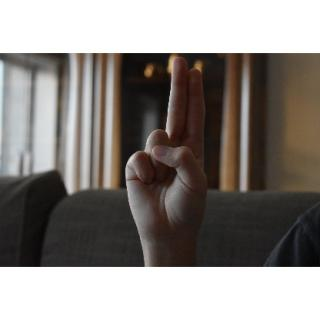TA: (123, 54, 218, 255)
